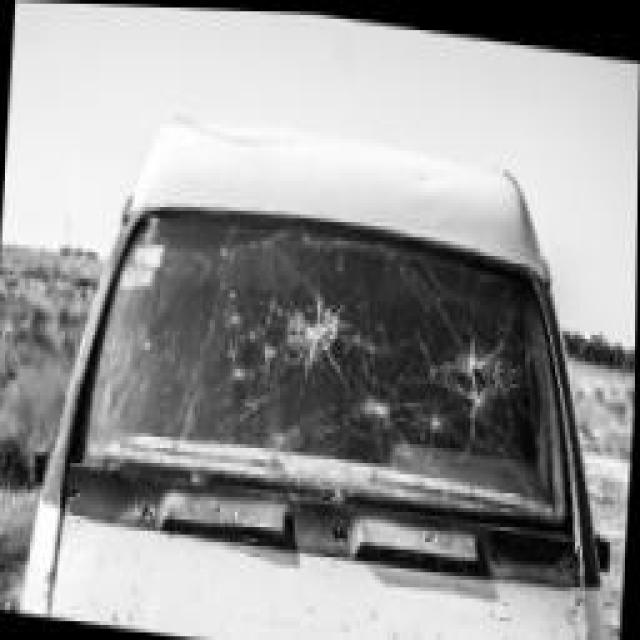Windshield: (95, 203, 576, 533)
